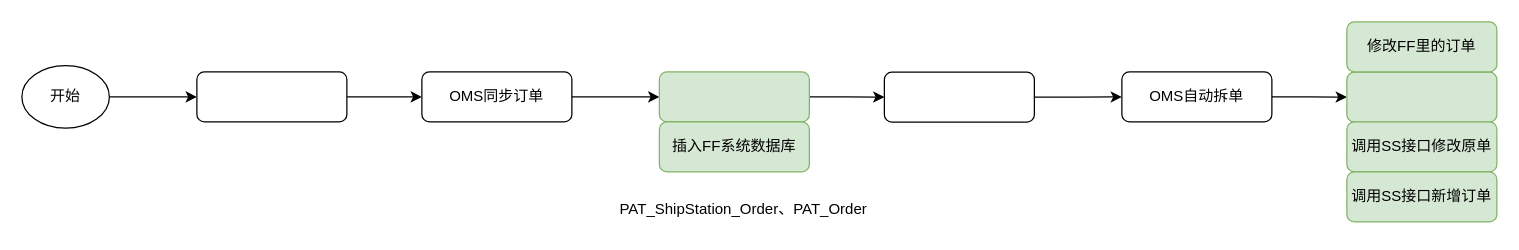
The diagram is 1519 pixels wide and 250 high, and some of its shapes have lost their labels. The box of each missing label's shape, as (x1, y1, x2, y2) in pixels:
SS平台录入多品订单: (196, 71, 347, 122)
待处理: (883, 71, 1034, 122)
新增FF里的订单: (1346, 71, 1497, 122)
调用SS接口获取订单: (658, 71, 809, 122)
